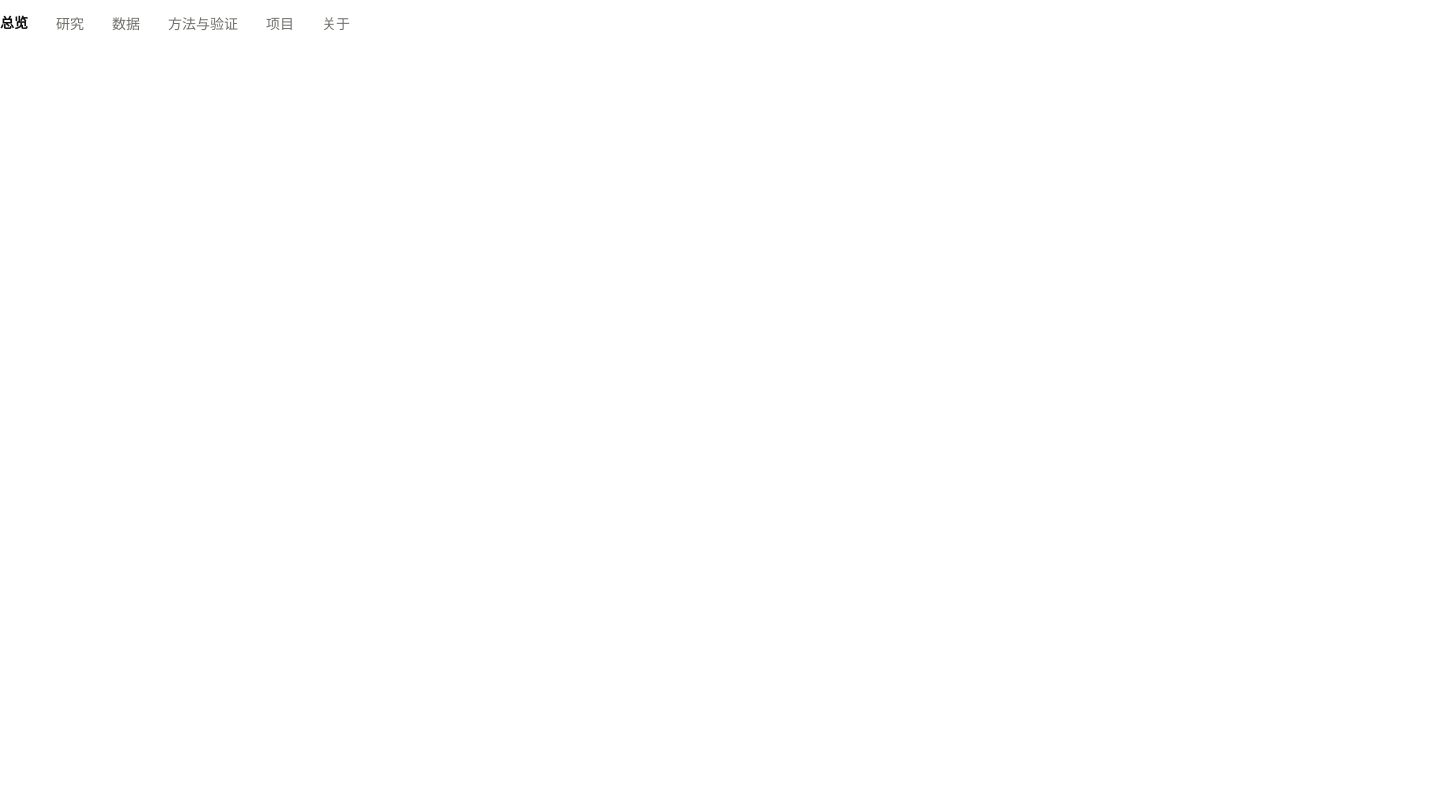
Scenario: primary domain navigation › shows the independent changelog under Project
Click the button "项目": point(280, 24) [266,0,294,48]
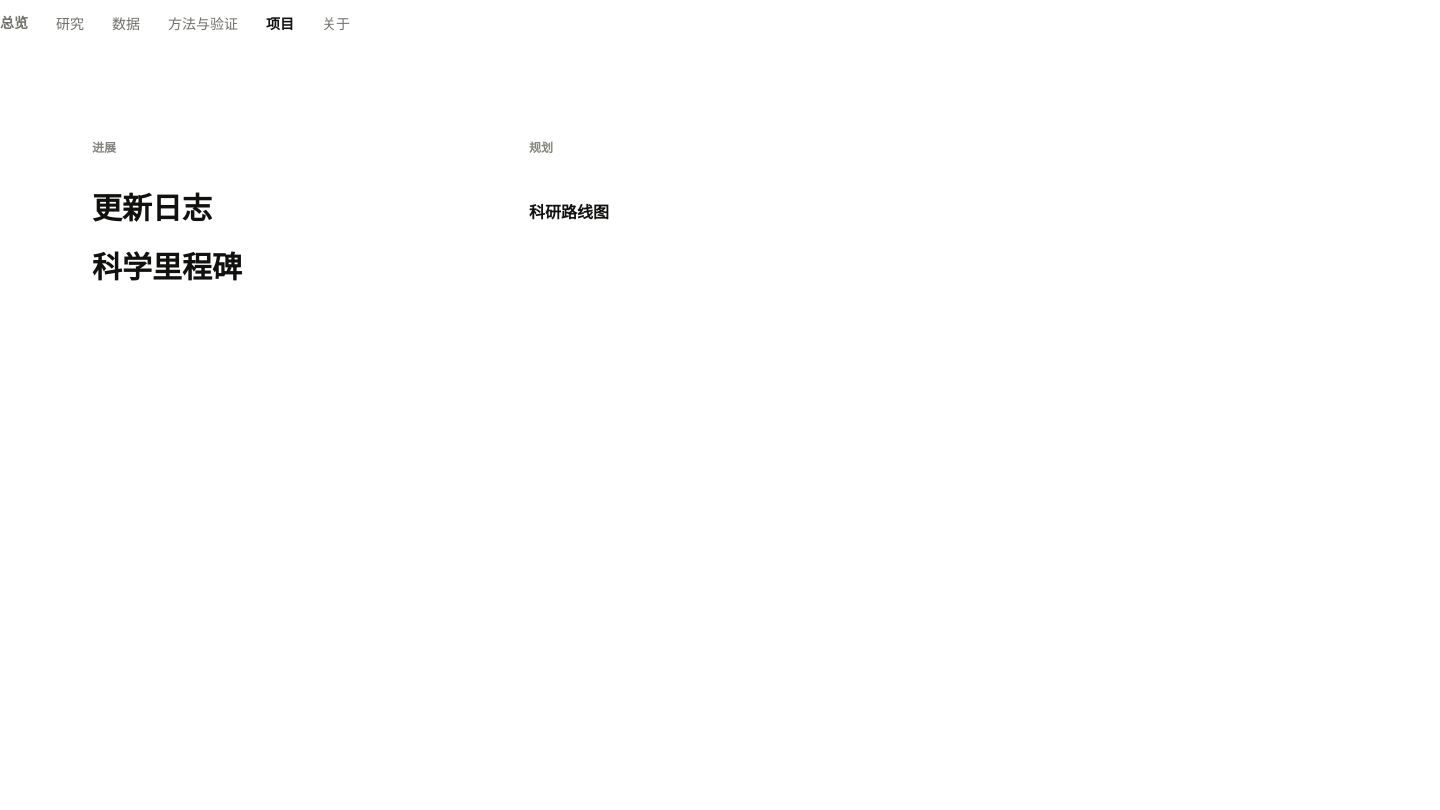
Now the menu item "更新日志" is shown, box [92,191,414,250]
